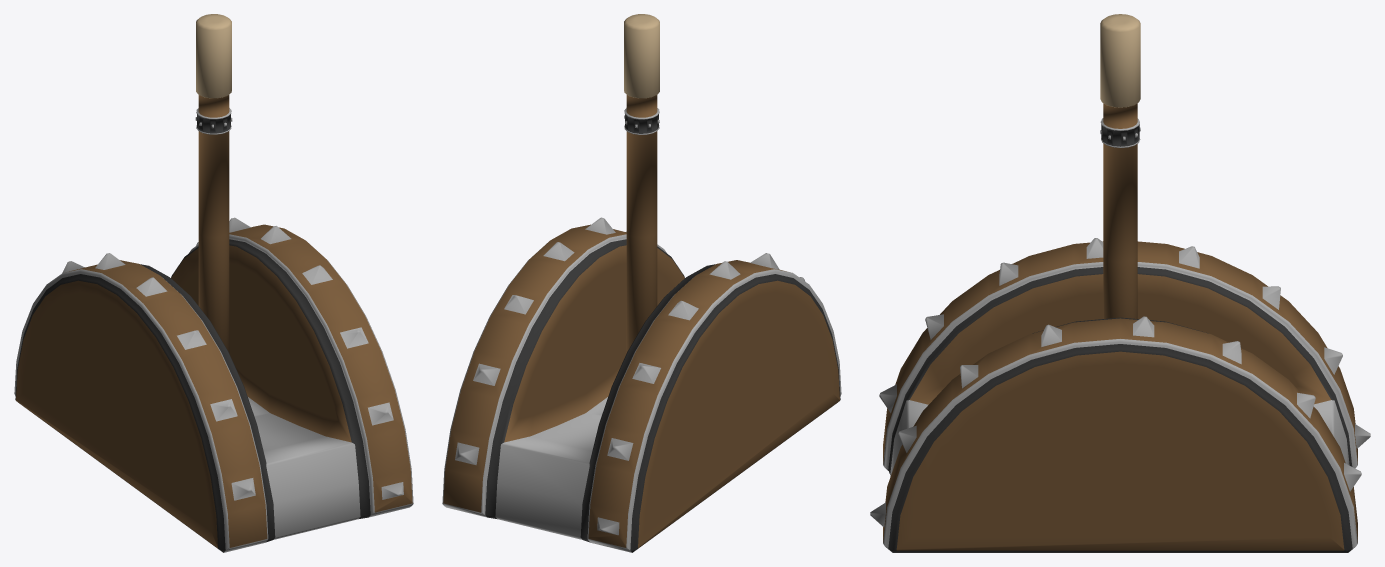
File: Palanca.fbx
3 renders of one model, left to right at view 1: azimuth 30°, elevation 25°; view 2: azimuth 150°, elevation 25°; view 3: azimuth 270°, elevation 25°, orthographic. The views are drawn at different scales.
Parts seen in each view (by area): view 1: SoportePalanca, Palanca; view 2: SoportePalanca, Palanca; view 3: SoportePalanca, Palanca.
Boxes of the visible parts, x1=… form: SoportePalanca: x1=14, y1=217, x2=413, y2=552; Palanca: x1=195, y1=14, x2=232, y2=352; SoportePalanca: x1=442, y1=217, x2=841, y2=552; Palanca: x1=624, y1=14, x2=659, y2=352; SoportePalanca: x1=870, y1=238, x2=1370, y2=552; Palanca: x1=1100, y1=14, x2=1140, y2=318.
Size of the model in its own units: 108 by 231 by 217.
